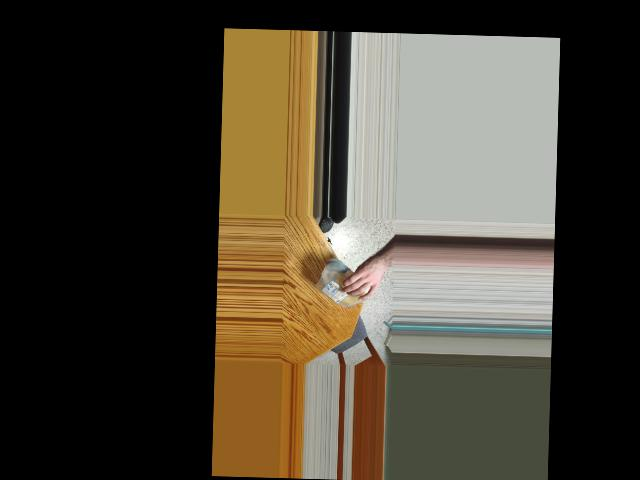cheese: (313, 264, 373, 311)
